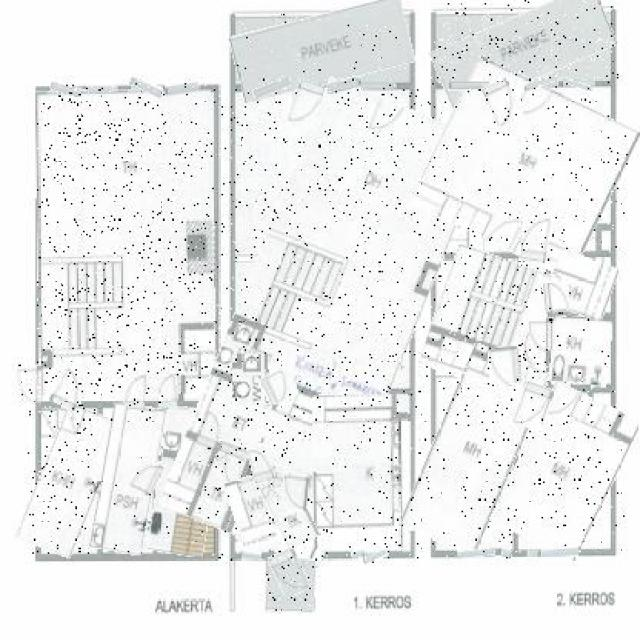door: (486, 78, 523, 130), (515, 383, 551, 429), (272, 548, 306, 595), (289, 80, 322, 128), (520, 212, 549, 263), (54, 368, 88, 409), (489, 348, 523, 384), (263, 369, 297, 403), (130, 458, 162, 494), (16, 365, 42, 403), (543, 283, 571, 317), (283, 475, 308, 511), (529, 317, 554, 352), (250, 444, 272, 482), (124, 369, 144, 409), (158, 372, 178, 408), (272, 474, 285, 489)
window: (252, 80, 291, 95), (328, 78, 362, 94), (129, 80, 163, 95), (164, 83, 198, 95), (363, 80, 397, 92), (524, 77, 558, 89), (49, 84, 82, 96), (563, 78, 594, 90), (86, 83, 117, 94), (448, 82, 489, 90), (458, 550, 498, 558), (540, 549, 578, 557), (363, 551, 388, 563), (242, 551, 263, 560), (497, 548, 512, 560), (352, 551, 363, 560), (528, 551, 538, 557)
zone: (198, 85, 451, 560), (37, 91, 215, 395), (422, 70, 628, 264), (417, 346, 532, 552), (505, 388, 626, 554), (428, 252, 554, 391), (432, 0, 613, 95), (232, 6, 412, 92), (314, 396, 409, 550), (28, 406, 110, 556), (95, 404, 160, 556), (154, 406, 218, 556), (548, 254, 615, 318), (551, 317, 611, 388), (231, 476, 274, 552), (268, 477, 314, 548), (266, 557, 316, 612), (234, 356, 271, 404)
